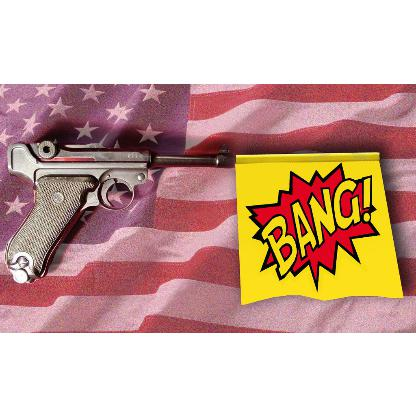gun: (2, 140, 233, 282)
